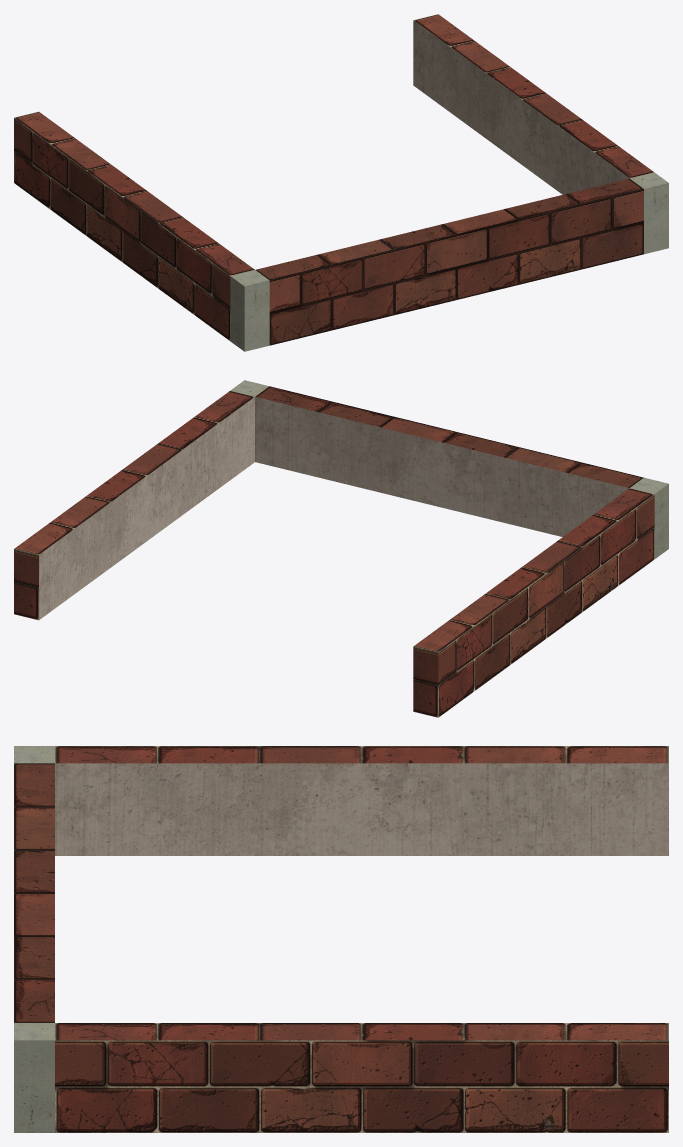
The model's file is roof04_U.fbx.
3 views of the same model, one above another, from view 1: azimuth 30°, elevation 25°; view 2: azimuth 150°, elevation 25°; view 3: azimuth 270°, elevation 25° (orthographic). The views are drawn at different scales.
Parts seen in each view (by area): view 1: roof04_U; view 2: roof04_U; view 3: roof04_U.
Part boxes in pixels (x1,y1,x2,y2): roof04_U: [14, 14, 668, 351]; roof04_U: [14, 380, 668, 717]; roof04_U: [14, 746, 668, 1132].
Bounding box in the file's own units: 340 × 50 × 320.
